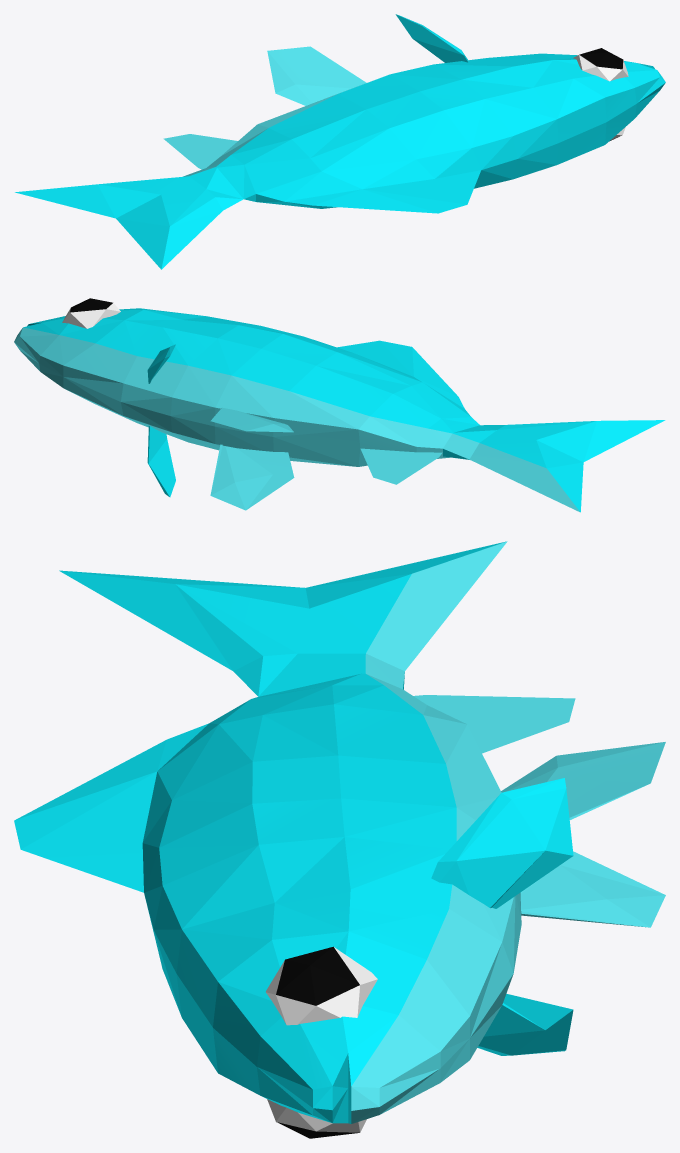
File: GoldfishDrip.glb
3 views of the same model, one above another, from view 1: azimuth 30°, elevation 25°; view 2: azimuth 150°, elevation 25°; view 3: azimuth 270°, elevation 25° (orthographic). The views are drawn at different scales.
Visible parts, largest first — view 1: GoldfishDrip; view 2: GoldfishDrip; view 3: GoldfishDrip.
Part boxes in pixels (x1=…): GoldfishDrip: x1=15, y1=14, x2=665, y2=269; GoldfishDrip: x1=14, y1=298, x2=665, y2=512; GoldfishDrip: x1=14, y1=541, x2=665, y2=1138.
Size of the model in its own units: 0.2322 by 0.0519 by 0.1123.
Materials: 1 (1 with a texture image).
